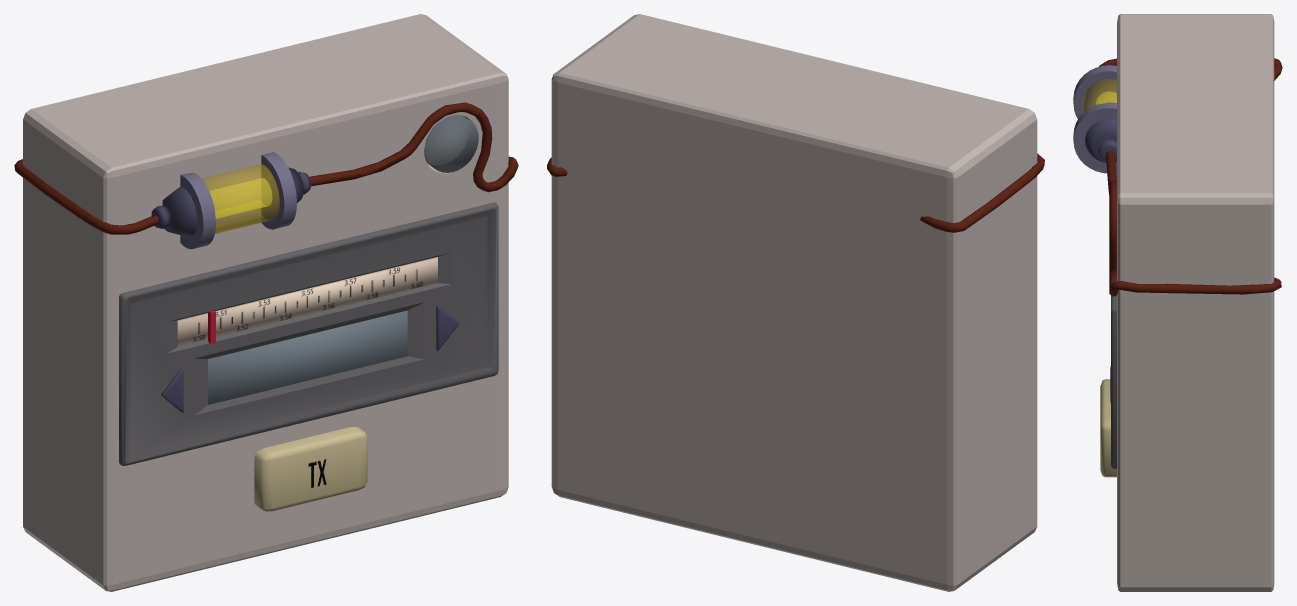
The model's file is morse.glb.
3 views of the same model, side by side, from view 1: azimuth 30°, elevation 25°; view 2: azimuth 150°, elevation 25°; view 3: azimuth 270°, elevation 25° (orthographic). The views are drawn at different scales.
Visible parts, largest first — view 1: MorseModule, Morse.Frame, Morse.Screen, Button.Tx, Morse.Screen.001, Morse.Plugs, Morse.Tube, MorseWire.Right, Light.009, MorseWire.Left, Morse.Tube.Inner, Morse.Plugs.Cap.L; view 2: MorseModule, MorseWire.Left; view 3: MorseModule, Morse.Plugs, MorseWire.Right, Button.Tx, Morse.Plugs.Cap.R, Morse.Frame, Morse.Tube.
Boxes of the visible parts, bbox=[...] form: MorseModule: bbox=[23, 14, 508, 591]; Morse.Frame: bbox=[119, 202, 498, 465]; Morse.Screen: bbox=[208, 310, 407, 404]; Button.Tx: bbox=[254, 427, 367, 511]; Morse.Screen.001: bbox=[177, 257, 437, 346]; Morse.Plugs: bbox=[180, 152, 296, 249]; Morse.Tube: bbox=[202, 164, 279, 233]; MorseWire.Right: bbox=[309, 102, 518, 192]; Light.009: bbox=[424, 115, 478, 172]; MorseWire.Left: bbox=[14, 159, 158, 234]; Morse.Tube.Inner: bbox=[209, 178, 271, 218]; Morse.Plugs.Cap.L: bbox=[151, 186, 197, 237]; MorseModule: bbox=[551, 14, 1037, 591]; MorseWire.Left: bbox=[920, 153, 1044, 232]; MorseModule: bbox=[1117, 14, 1274, 591]; Morse.Plugs: bbox=[1073, 65, 1116, 173]; MorseWire.Right: bbox=[1105, 150, 1281, 296]; Button.Tx: bbox=[1100, 379, 1116, 477]; Morse.Plugs.Cap.R: bbox=[1085, 118, 1116, 162]; Morse.Frame: bbox=[1111, 173, 1116, 468]; Morse.Tube: bbox=[1082, 79, 1116, 113].
Size of the model in its own units: 0.1849 by 0.1761 by 0.0837.
12 materials, 2 textured.
